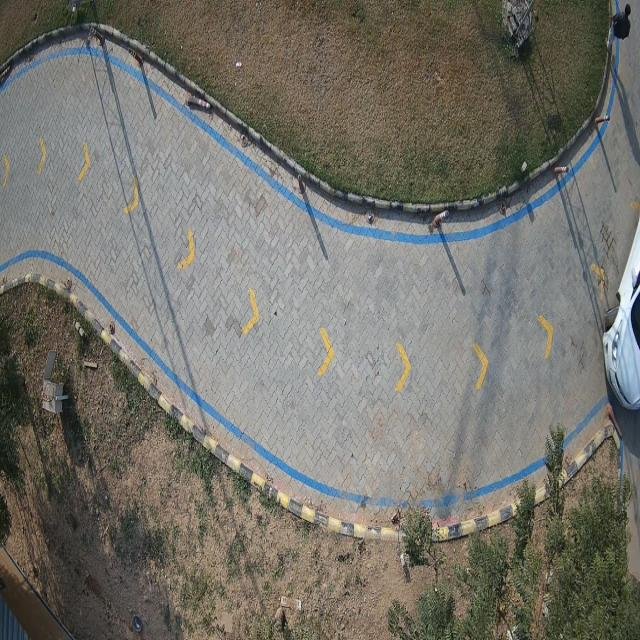car: (602, 220, 640, 410)
